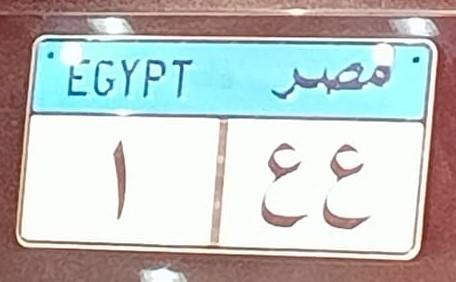1: (98, 126, 144, 235)
ع: (248, 128, 314, 234), (318, 127, 371, 240)
